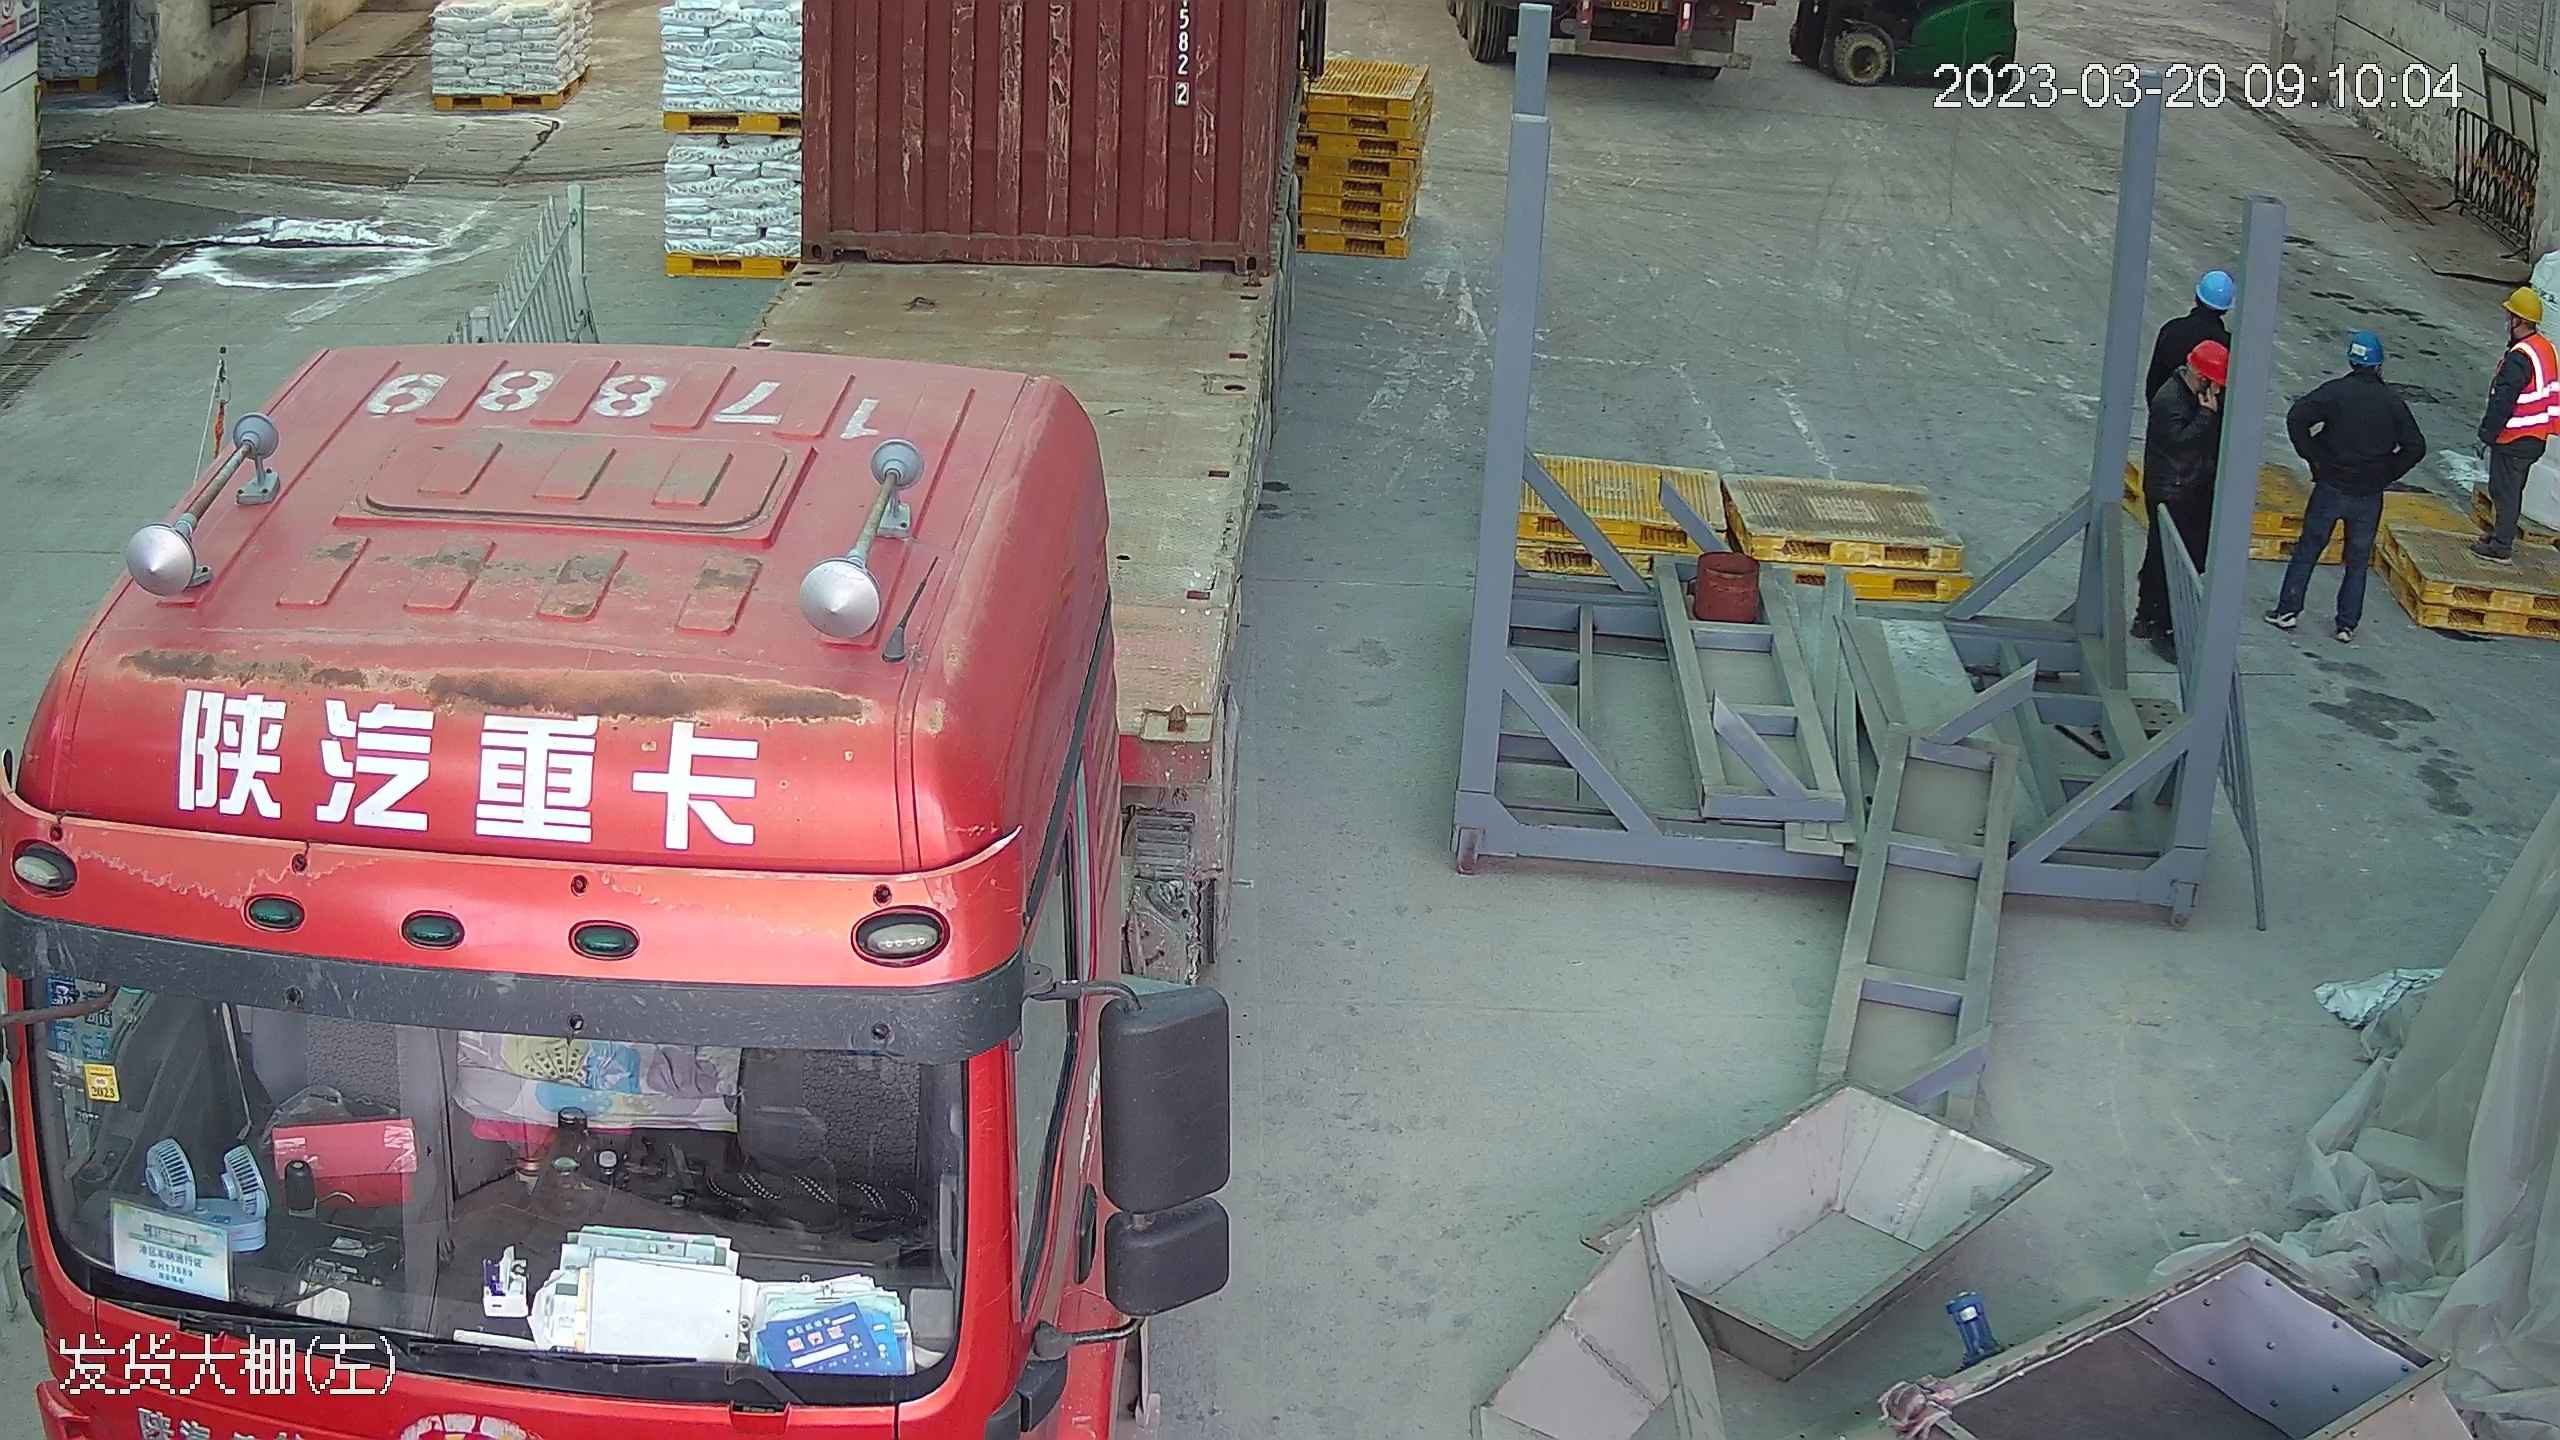head: (2313, 328, 2411, 419), (2155, 337, 2233, 436), (2495, 283, 2554, 382), (2168, 270, 2238, 354)
helmet: (2494, 284, 2551, 380), (2186, 339, 2233, 380), (2191, 268, 2235, 307), (2501, 284, 2546, 322), (2348, 329, 2386, 366)
people: (2266, 326, 2424, 639), (2132, 336, 2236, 649), (2467, 280, 2558, 566)
truck: (7, 14, 1287, 1440)
